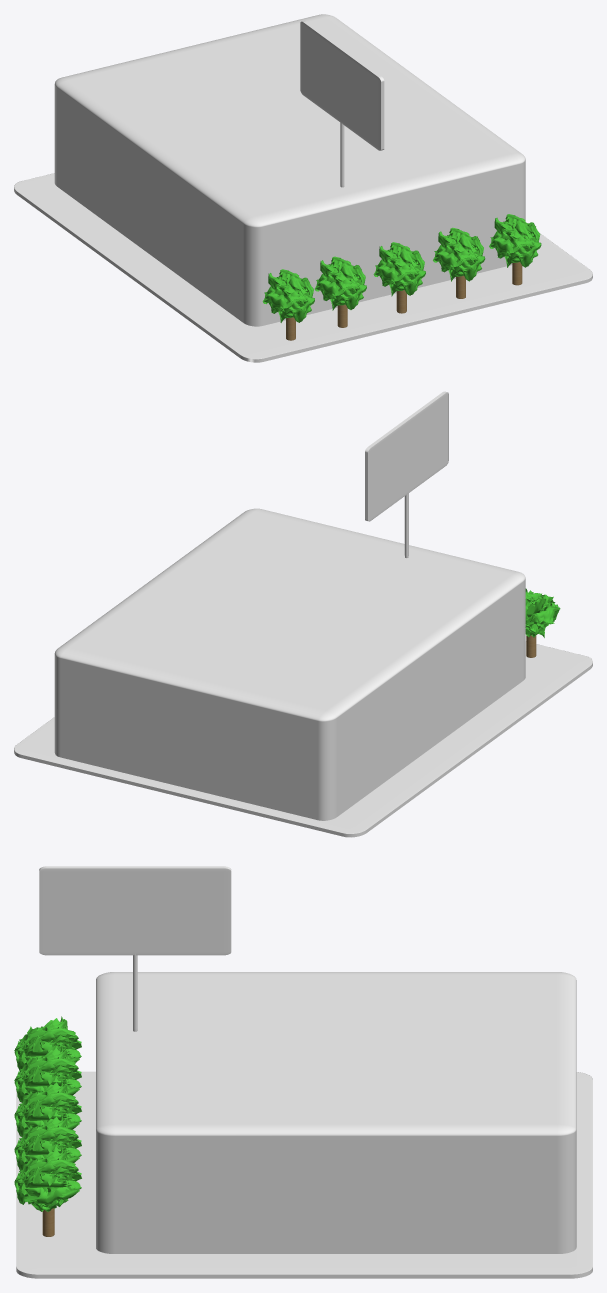
File: mall2.glb
3 views of the same model, one above another, from view 1: azimuth 30°, elevation 25°; view 2: azimuth 150°, elevation 25°; view 3: azimuth 270°, elevation 25° (orthographic). The views are drawn at different scales.
Visible parts, largest first — view 1: house, land, sign, Torus 3 (×5), Torus 2 (×5), Torus (×5); view 2: house, land, sign; view 3: house, land, sign, Torus 2 (×5), Torus 1 (×5), Torus 3, Torus.
Part boxes in pixels (x1,y1,x2,y2): house: [54, 14, 525, 326]; land: [14, 173, 592, 362]; sign: [300, 21, 384, 150]; Torus 3 (×5): [262, 231, 538, 322]; Torus 2 (×5): [277, 214, 541, 322]; Torus (×5): [268, 217, 535, 307]; house: [54, 508, 525, 820]; land: [14, 641, 592, 837]; sign: [365, 391, 448, 521]; house: [96, 972, 576, 1253]; land: [16, 1071, 592, 1278]; sign: [39, 866, 231, 955]; Torus 2 (×5): [19, 1026, 81, 1206]; Torus 1 (×5): [14, 1035, 72, 1192]; Torus 3: [14, 1158, 81, 1204]; Torus: [15, 1147, 67, 1211].
Size of the model in its own units: 1 by 0.6759 by 1.2.
29 materials, 5 textured.
